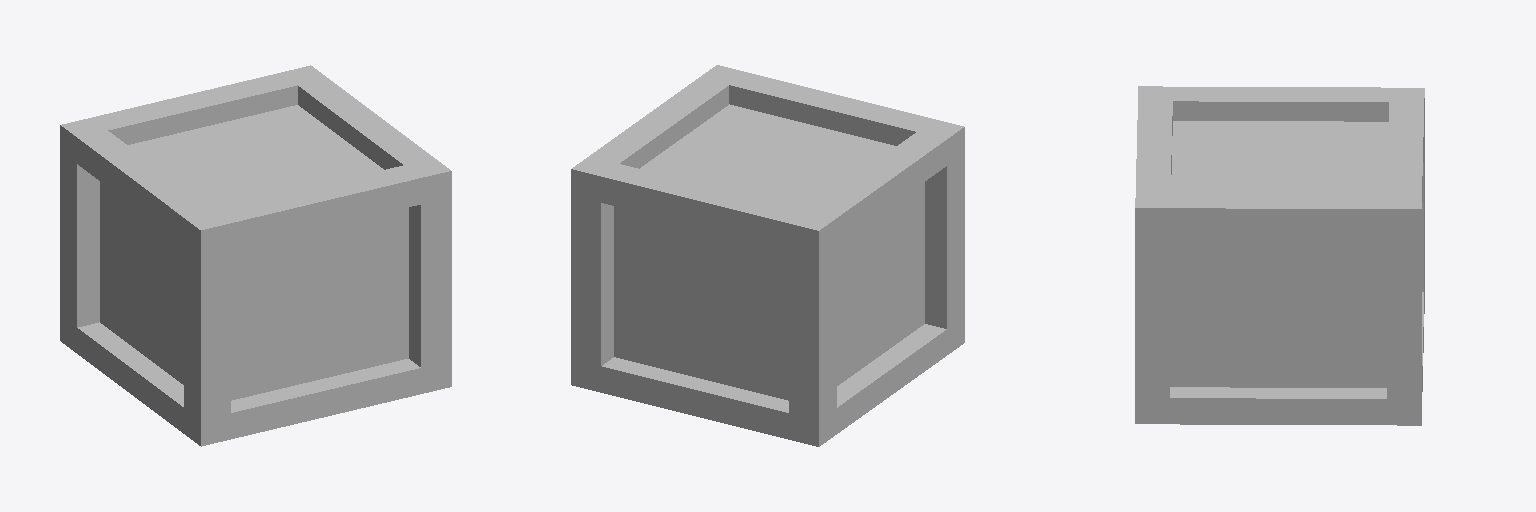
The model's file is storage box 1.obj.
The picture shows the model from 3 angles: view 1: azimuth 30°, elevation 25°; view 2: azimuth 150°, elevation 25°; view 3: azimuth 270°, elevation 25°; orthographic projection.
Parts seen in each view (by area): view 1: Box1699; view 2: Box1699; view 3: Box1699.
Part boxes in pixels (x1,y1,x2,y2): Box1699: (60, 65, 451, 446); Box1699: (571, 65, 964, 446); Box1699: (1135, 86, 1424, 425).
Bounding box in the file's own units: 60.15 × 49.3 × 59.83.